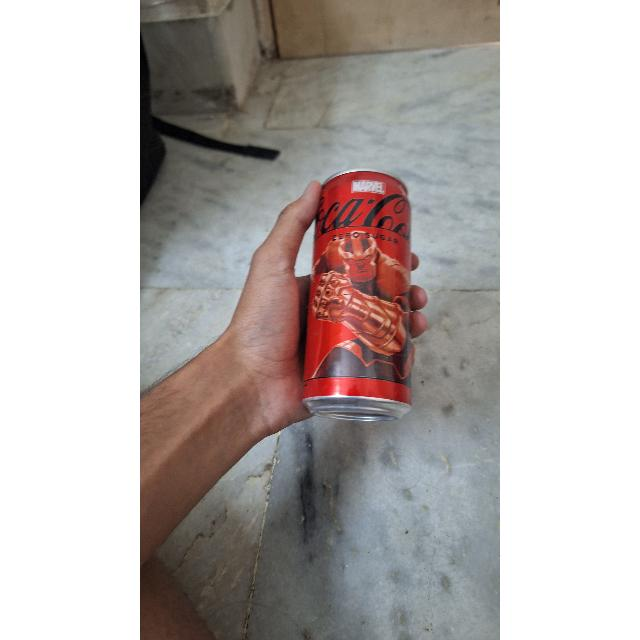Coca Cola Zero: (309, 172, 413, 412)
